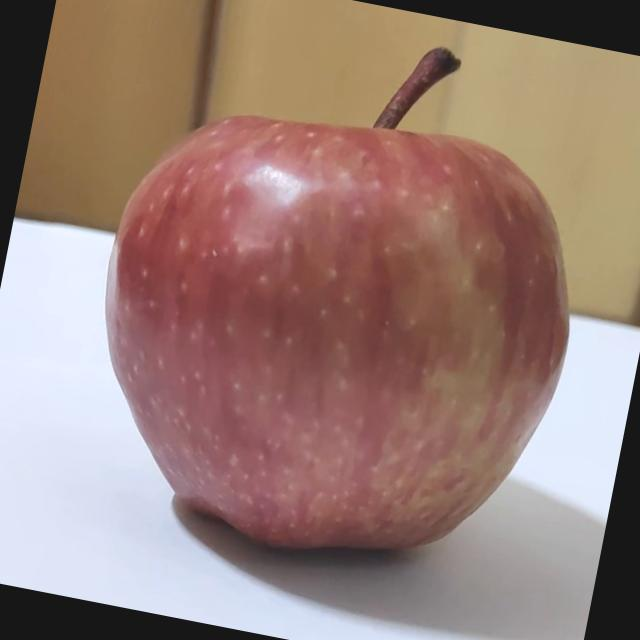apple: (56, 0, 619, 609)
